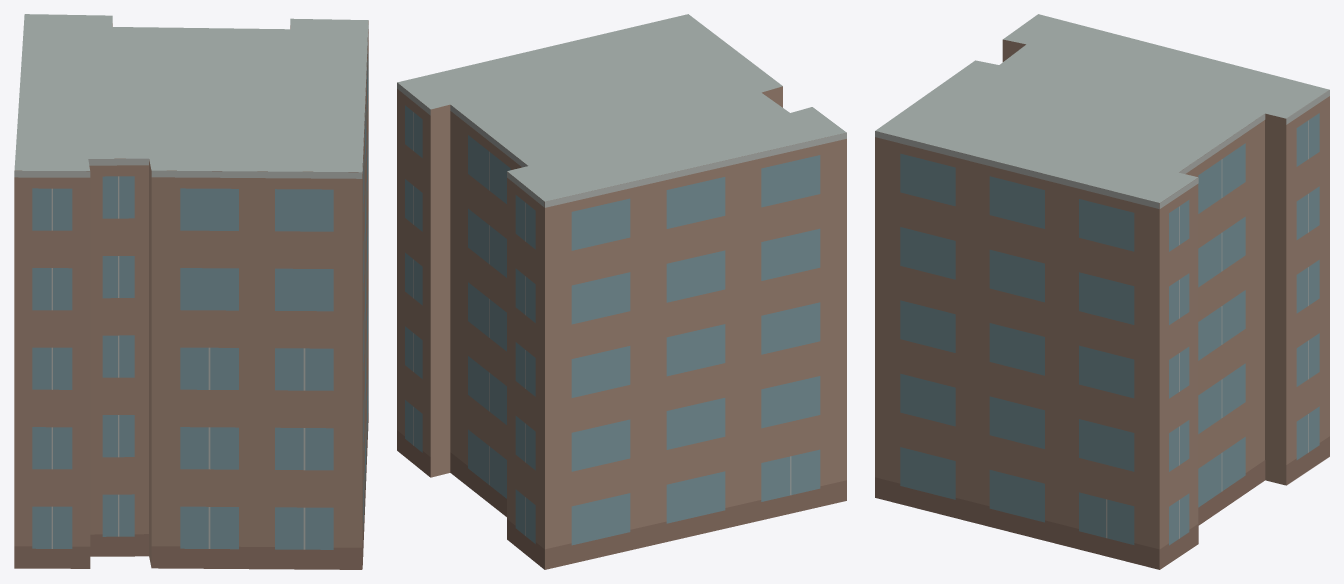
The model's file is survey-upis-32778349.glb.
3 views of the same model, side by side, from view 1: azimuth 30°, elevation 25°; view 2: azimuth 150°, elevation 25°; view 3: azimuth 270°, elevation 25° (orthographic). The views are drawn at different scales.
Parts seen in each view (by area): view 1: survey-upis-32778349.tmp; view 2: survey-upis-32778349.tmp; view 3: survey-upis-32778349.tmp.
Part boxes in pixels (left/top/right/bottom): survey-upis-32778349.tmp: left=14, top=14, right=368, bottom=569; survey-upis-32778349.tmp: left=397, top=14, right=846, bottom=569; survey-upis-32778349.tmp: left=875, top=14, right=1329, bottom=569.
Size of the model in its own units: 15.97 by 14.45 by 16.24.
